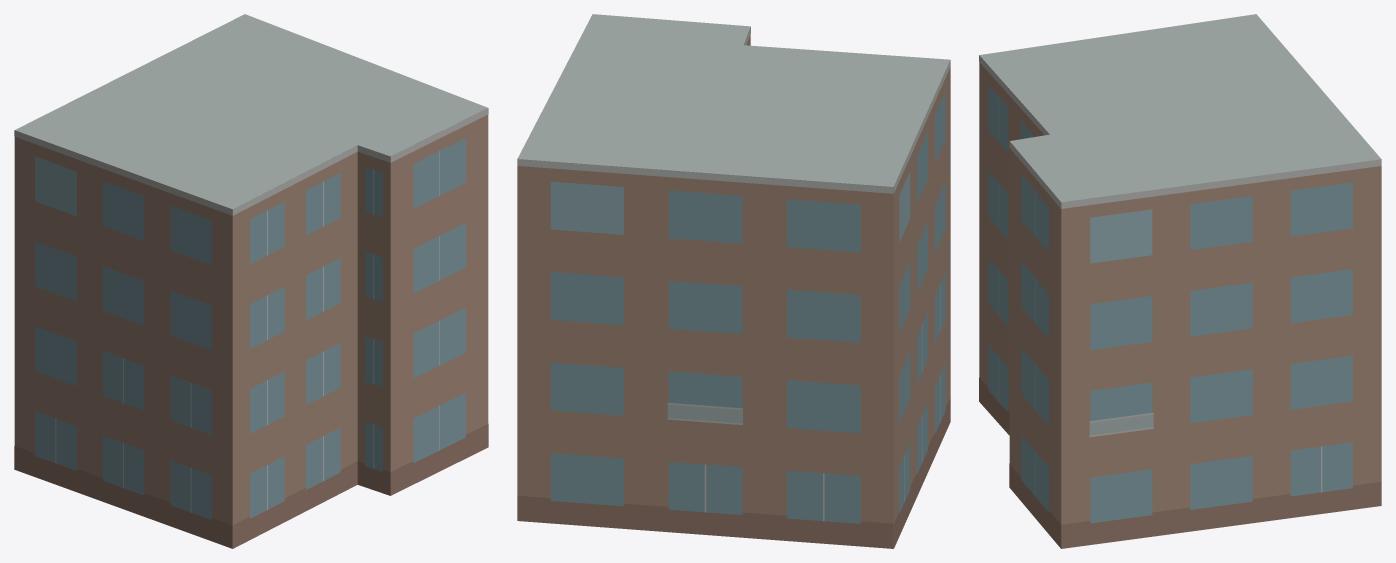
Rendered from survey-upis-32865218.glb.
3 renders of one model, left to right at view 1: azimuth 30°, elevation 25°; view 2: azimuth 150°, elevation 25°; view 3: azimuth 270°, elevation 25°, orthographic. The views are drawn at different scales.
Visible parts, largest first — view 1: survey-upis-32865218.tmp; view 2: survey-upis-32865218.tmp; view 3: survey-upis-32865218.tmp.
Part boxes in pixels (x1,y1,x2,y2): survey-upis-32865218.tmp: [14, 14, 488, 548]; survey-upis-32865218.tmp: [517, 14, 950, 548]; survey-upis-32865218.tmp: [979, 14, 1381, 548].
Bounding box in the file's own units: 14.98 × 12.84 × 13.53.
